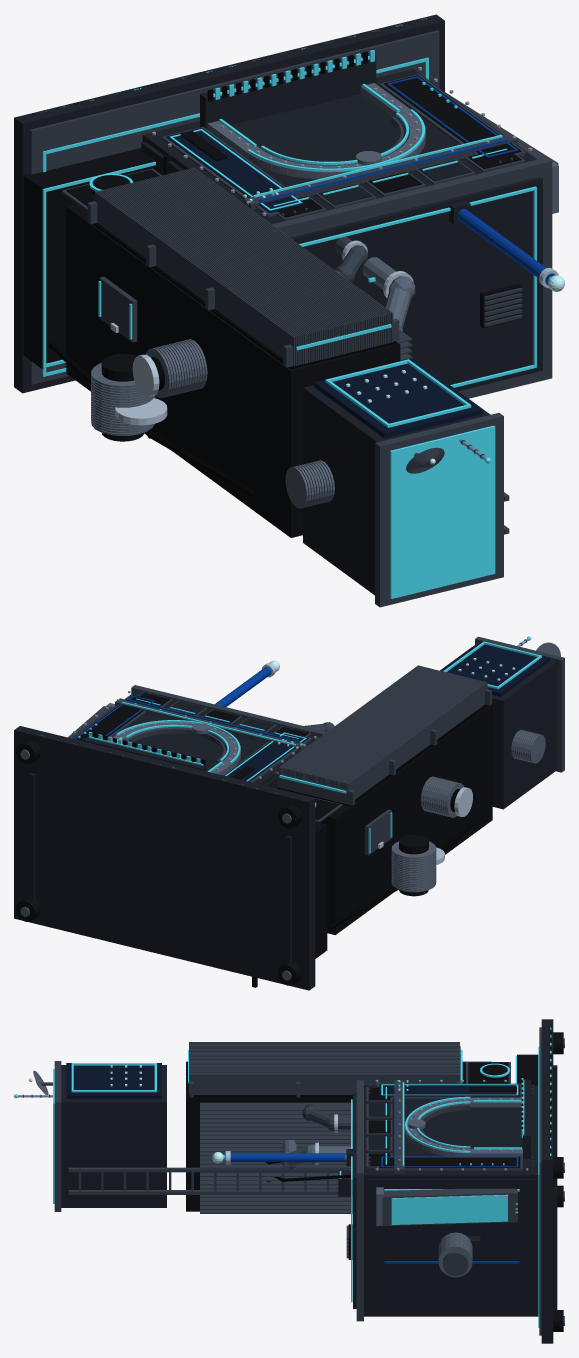
Rendered from arch_rig.obj.
3 views of the same model, one above another, from view 1: azimuth 30°, elevation 25°; view 2: azimuth 150°, elevation 25°; view 3: azimuth 270°, elevation 25° (orthographic). The views are drawn at different scales.
Visible parts, largest first — view 1: tw_body, cb_cap2, tz_cap_g, cb_body, tz_box, bl_plate, bl_top, tw_base, cb_cap, tz_face, tz_cap, tw_fin_053 (+18 smaller); view 2: bl_plate, tw_body, tz_box, cb_body, tw_fin_053, tz_face, tw_base, tz_cap, cb_cap, cb_rp_pl, cb_band, cb_lp_pl (+11 smaller); view 3: cb_side-1, tz_box, cb_body, tw_fin_000, bl_plate, lk_post_g1, tz_face, tw_body, cb_cap, lk_post, cb_lp_pl, tw_ldr_rail-1 (+48 smaller).
Boxes of the visible parts, x1,y1,x2,y2 form: tw_body: (66, 204, 400, 537); cb_cap2: (290, 177, 542, 391); tz_cap_g: (390, 425, 495, 598); cb_body: (142, 69, 536, 224); tz_box: (303, 360, 490, 595); bl_plate: (14, 14, 444, 393); bl_top: (30, 30, 439, 384); tw_base: (23, 148, 155, 368); cb_cap: (272, 157, 552, 398); tz_face: (314, 358, 482, 438); tz_cap: (375, 413, 503, 607); tw_fin_053: (95, 191, 294, 366); bl_plate: (14, 726, 315, 990); tw_body: (277, 703, 492, 934); tz_box: (440, 642, 557, 809); cb_body: (71, 692, 319, 785); tw_fin_053: (347, 682, 487, 799); tz_face: (440, 641, 549, 696); tw_base: (315, 821, 327, 958); tz_cap: (475, 636, 564, 772); cb_cap: (131, 685, 326, 736); cb_rp_pl: (224, 731, 308, 781); cb_band: (115, 698, 306, 751); cb_lp_pl: (73, 695, 156, 740); cb_side-1: (368, 1178, 535, 1314); tz_box: (61, 1065, 166, 1207); cb_body: (364, 1085, 538, 1316); tw_fin_000: (189, 1074, 459, 1094); bl_plate: (541, 1019, 553, 1343); lk_post_g1: (391, 1194, 507, 1224); tz_face: (66, 1063, 161, 1098); tw_body: (186, 1061, 491, 1211); cb_cap: (356, 1080, 363, 1321); lk_post: (382, 1188, 517, 1226); cb_lp_pl: (379, 1156, 520, 1168); tw_ldr_rail-1: (68, 1167, 352, 1172).
Bounding box in the file's own units: 5.44 × 3.31 × 7.56.
